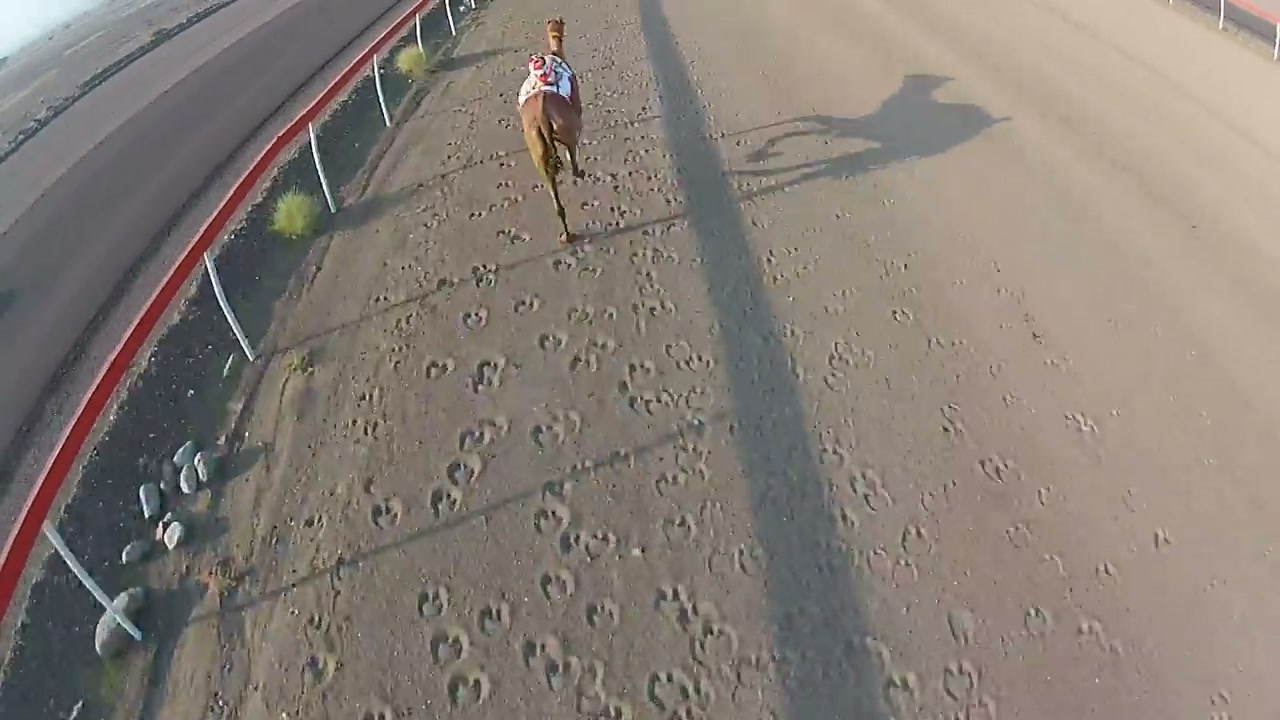animal_foot_print: (691, 619, 739, 667), (530, 410, 583, 449), (458, 416, 509, 453), (850, 467, 892, 511), (446, 667, 490, 709), (883, 671, 920, 716), (428, 626, 469, 666), (942, 660, 979, 702), (469, 355, 507, 393), (538, 567, 575, 603), (533, 499, 570, 534), (428, 482, 462, 519), (445, 453, 483, 486), (978, 455, 1022, 483), (418, 582, 451, 619), (476, 602, 511, 636), (660, 513, 696, 546), (303, 653, 338, 686), (947, 608, 976, 647), (370, 496, 403, 529), (585, 598, 620, 629), (1024, 606, 1053, 637), (423, 356, 455, 379), (460, 306, 488, 330), (537, 330, 567, 352), (512, 293, 541, 315)
